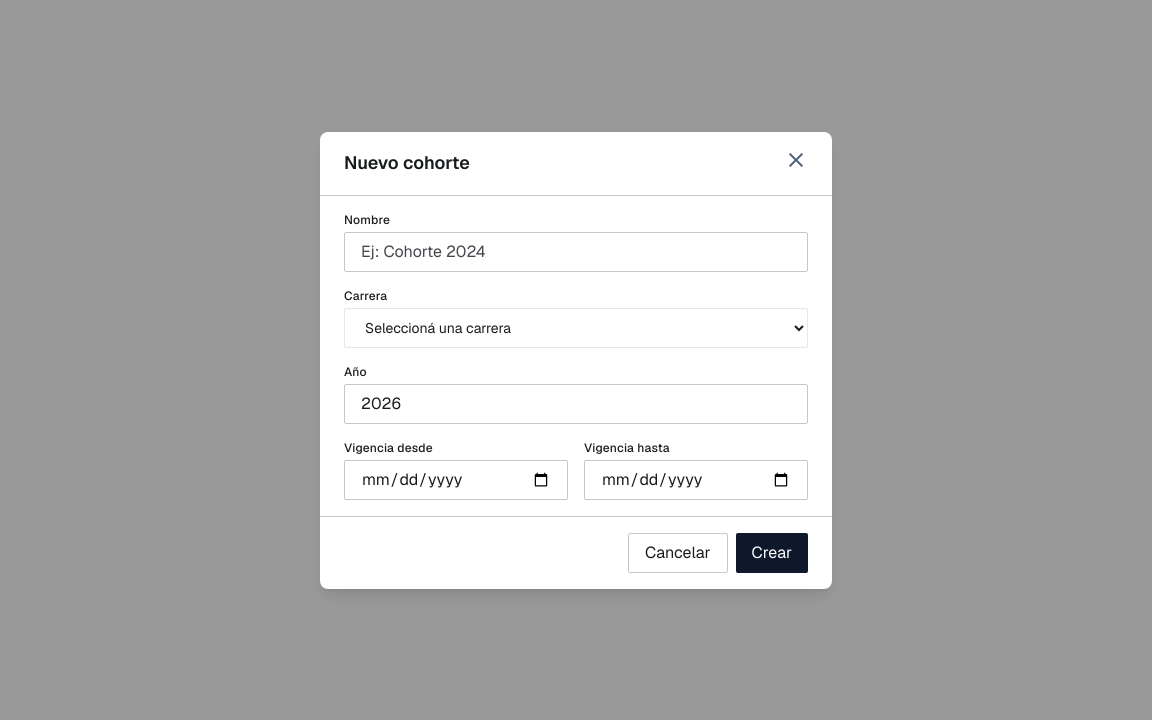
Test: CohorteFormModal › shows validation errors for empty required fields
Click the button "Crear".
click(772, 552)  # box [736,532,808,572]
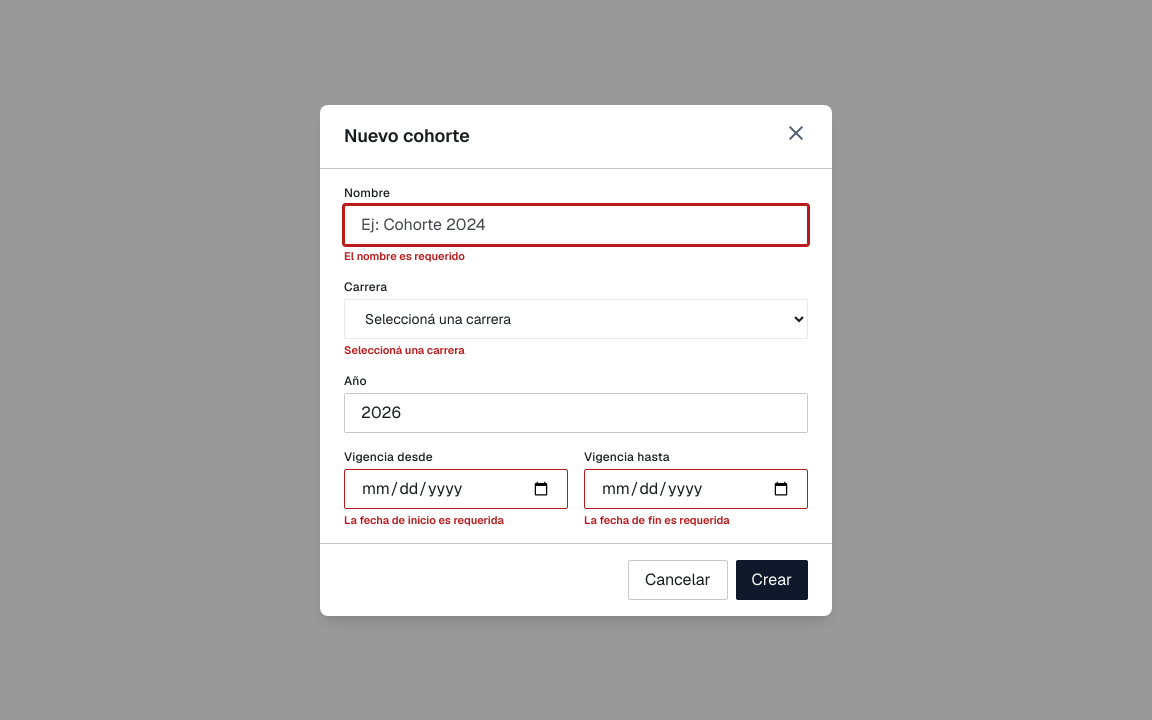
Result: the text "El nombre es requerido" is shown at [344,248,465,262]
